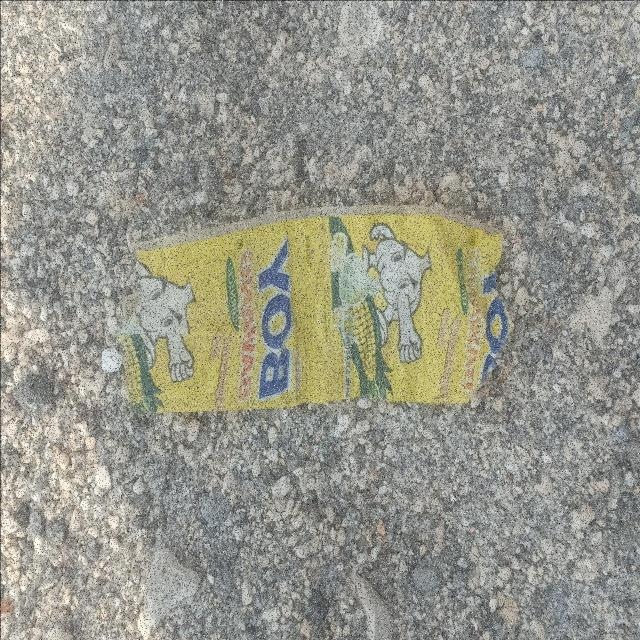plastic_waste: (118, 205, 516, 414)
